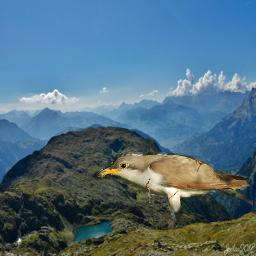Cuckoo: (96, 152, 253, 226)
